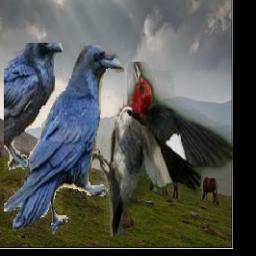Crow: (5, 43, 125, 234)
Woodpecker: (79, 63, 233, 237)
